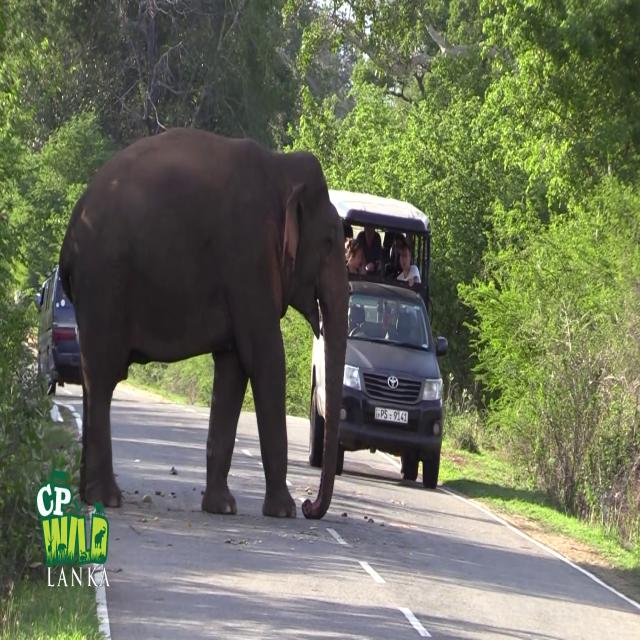Elephant: (58, 125, 350, 519)
